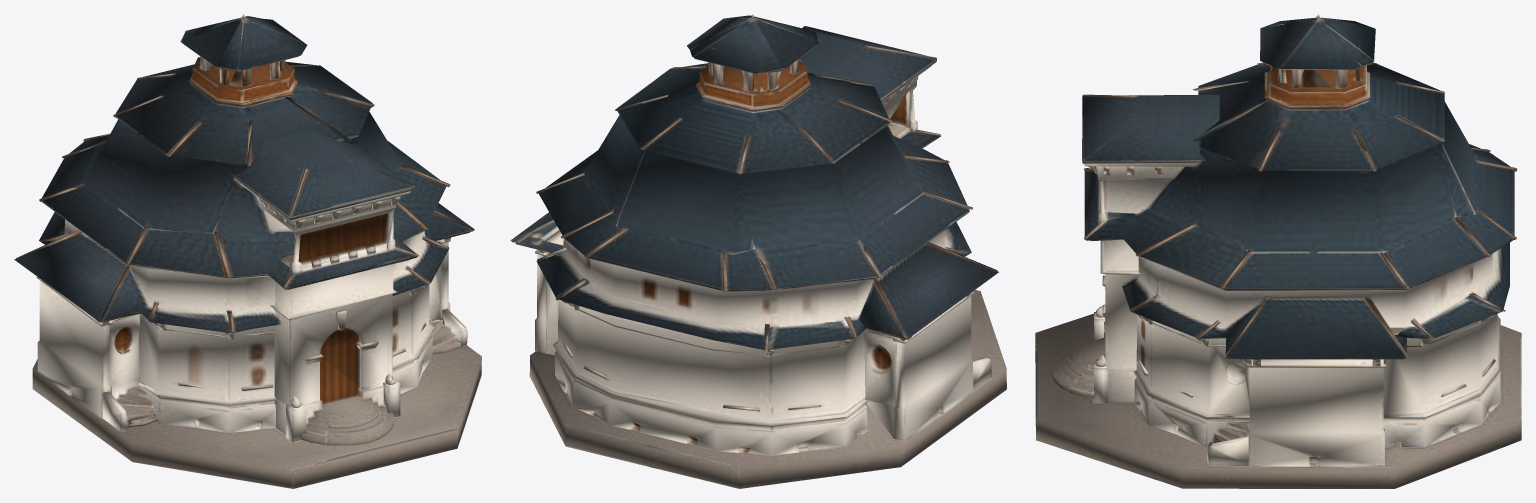
File: memory-archive-map.glb
3 renders of one model, left to right at view 1: azimuth 30°, elevation 25°; view 2: azimuth 150°, elevation 25°; view 3: azimuth 270°, elevation 25°, orthographic. The views are drawn at different scales.
Bounding box in the file's own units: 0.9077 × 0.8252 × 0.9478.
Materials: 1 (1 with a texture image).
